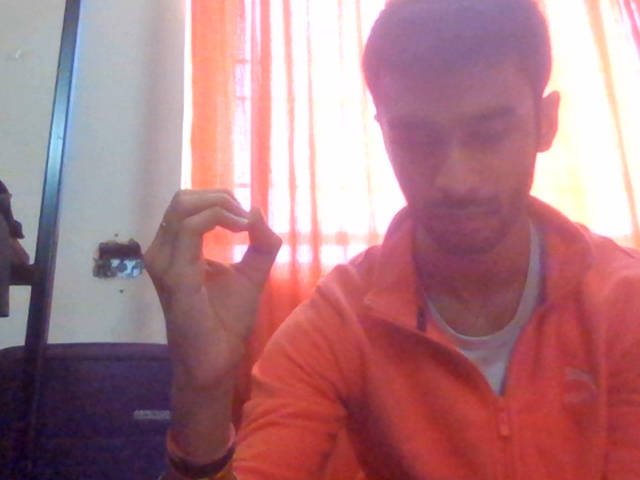O: (106, 142, 300, 426)
